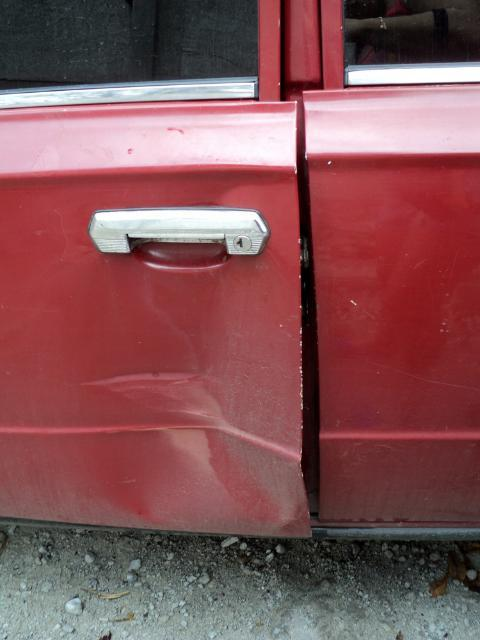dent: (78, 257, 292, 531)
